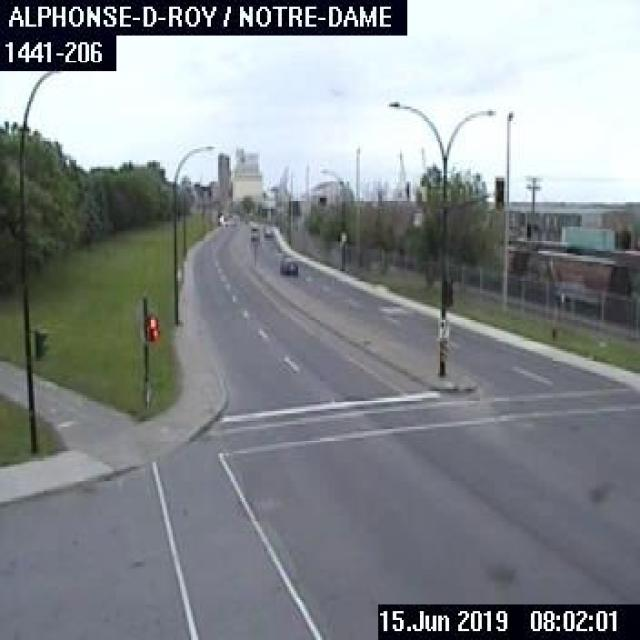vehicle: (275, 251, 300, 276), (246, 222, 256, 240), (262, 226, 273, 238)
